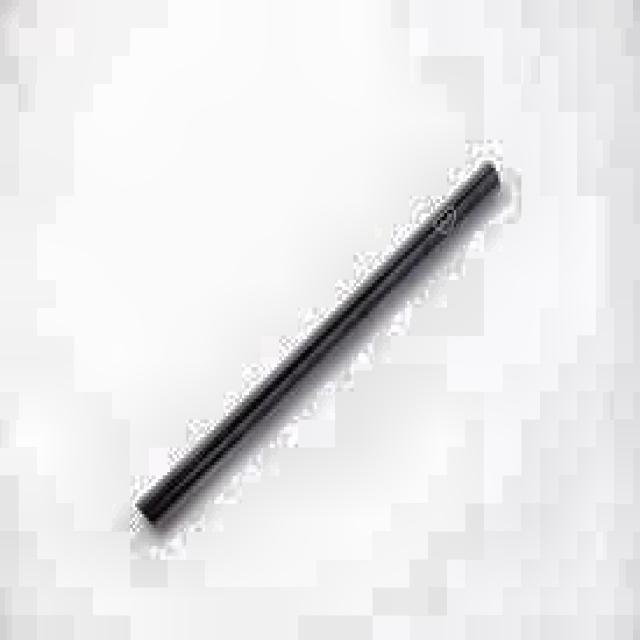plastic straw: (138, 171, 498, 521)
